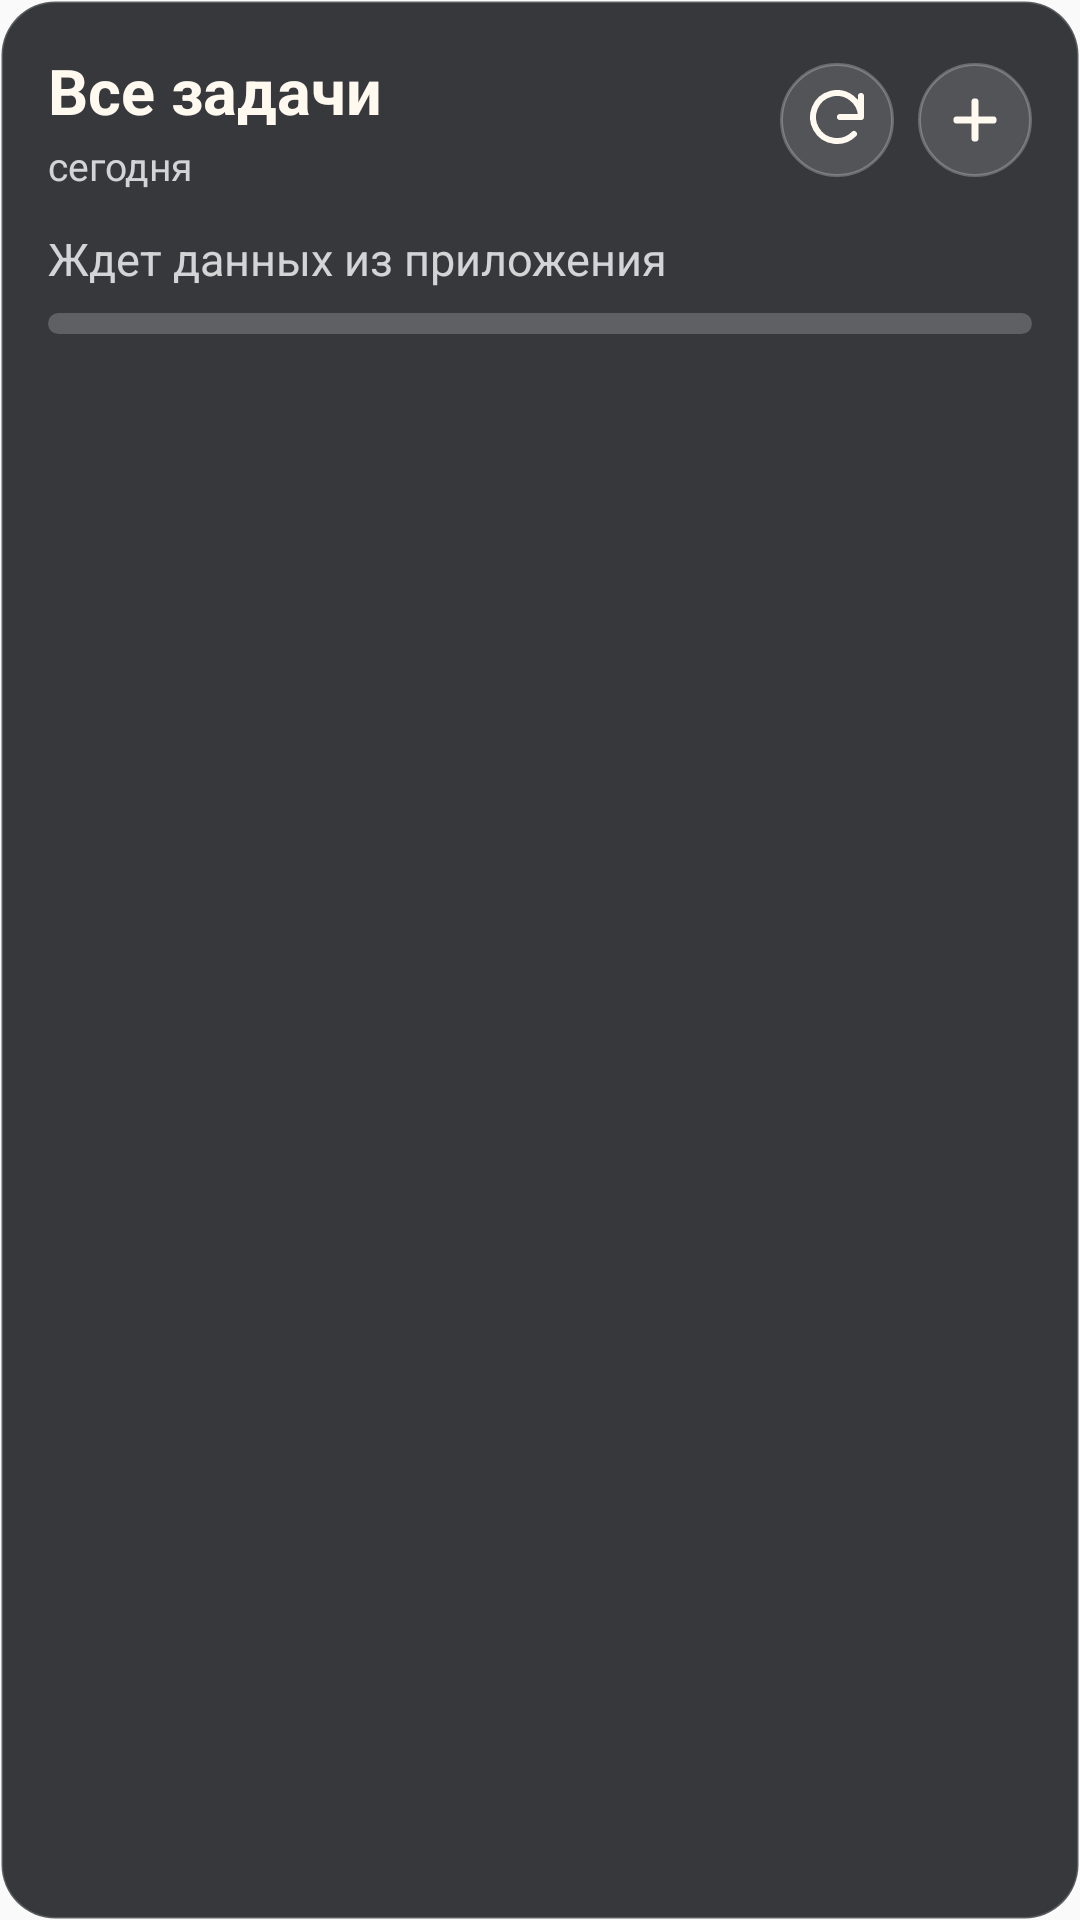

Screen size 1080px×1920px. Icon name, then its center in pixels as point (x, y):
planner widget refresh: point (837, 120)
Добавить задачу: point (975, 120)
